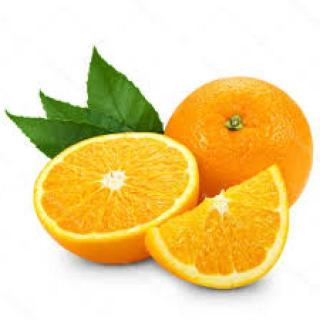orange: (31, 124, 217, 278), (157, 54, 320, 215), (143, 162, 293, 320)
